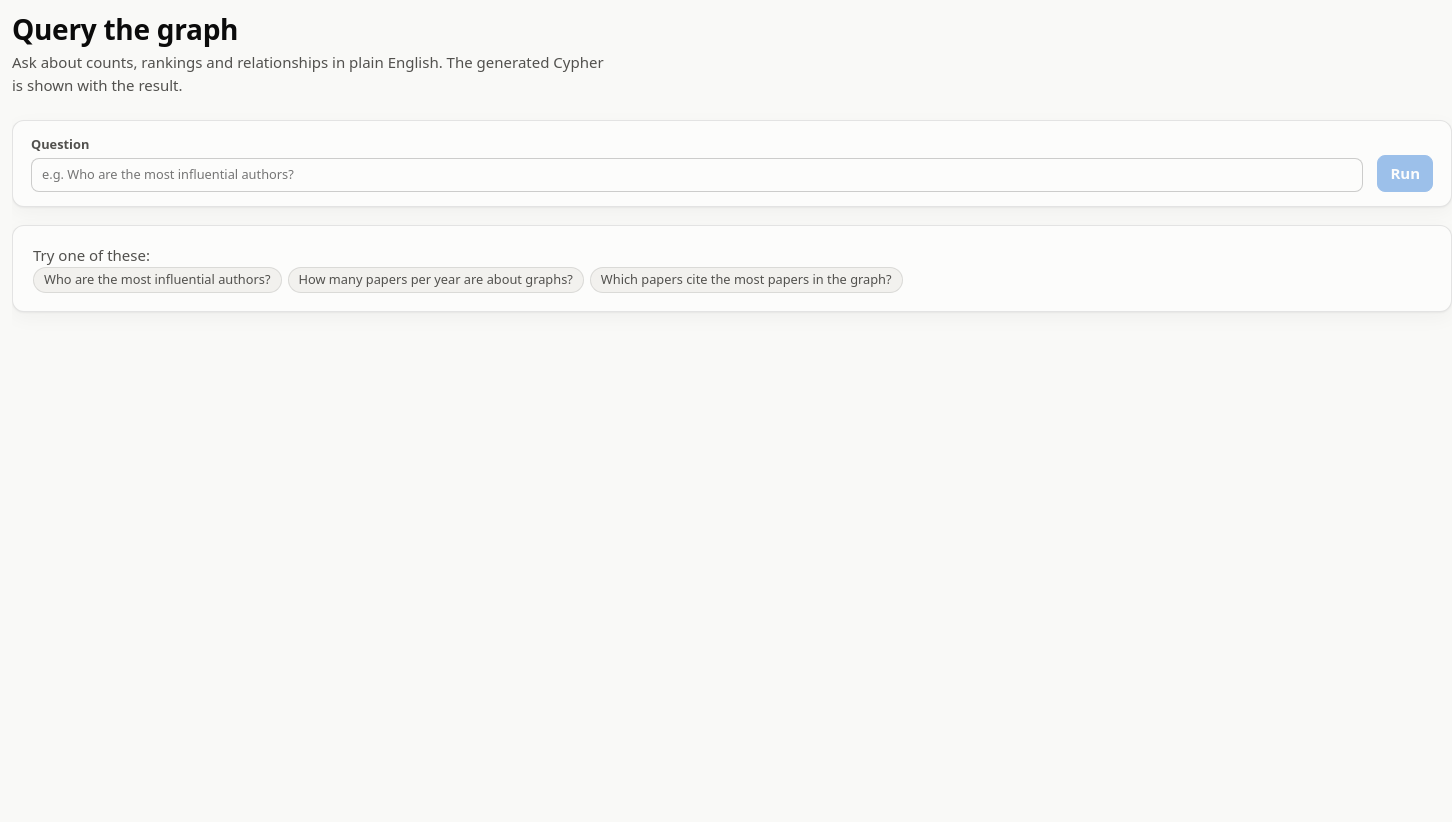
QueryPage › warns when results are truncated
This screenshot has width=1452, height=822.
Type "top authors" into the field labelled "Question" at (697, 175), box [31, 158, 1363, 192]
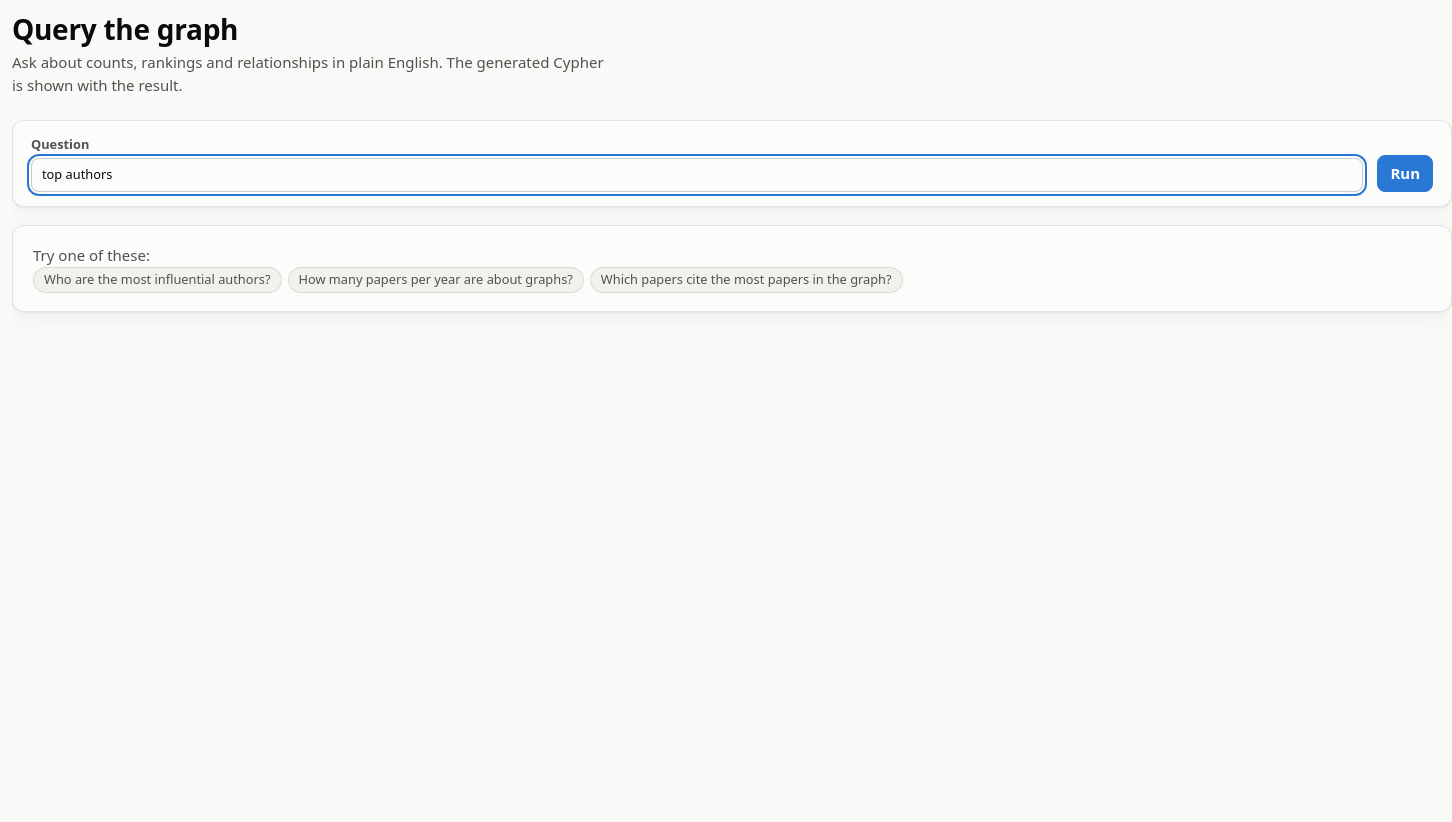
Click the button "Run" at (1405, 174), box [1377, 155, 1433, 192]
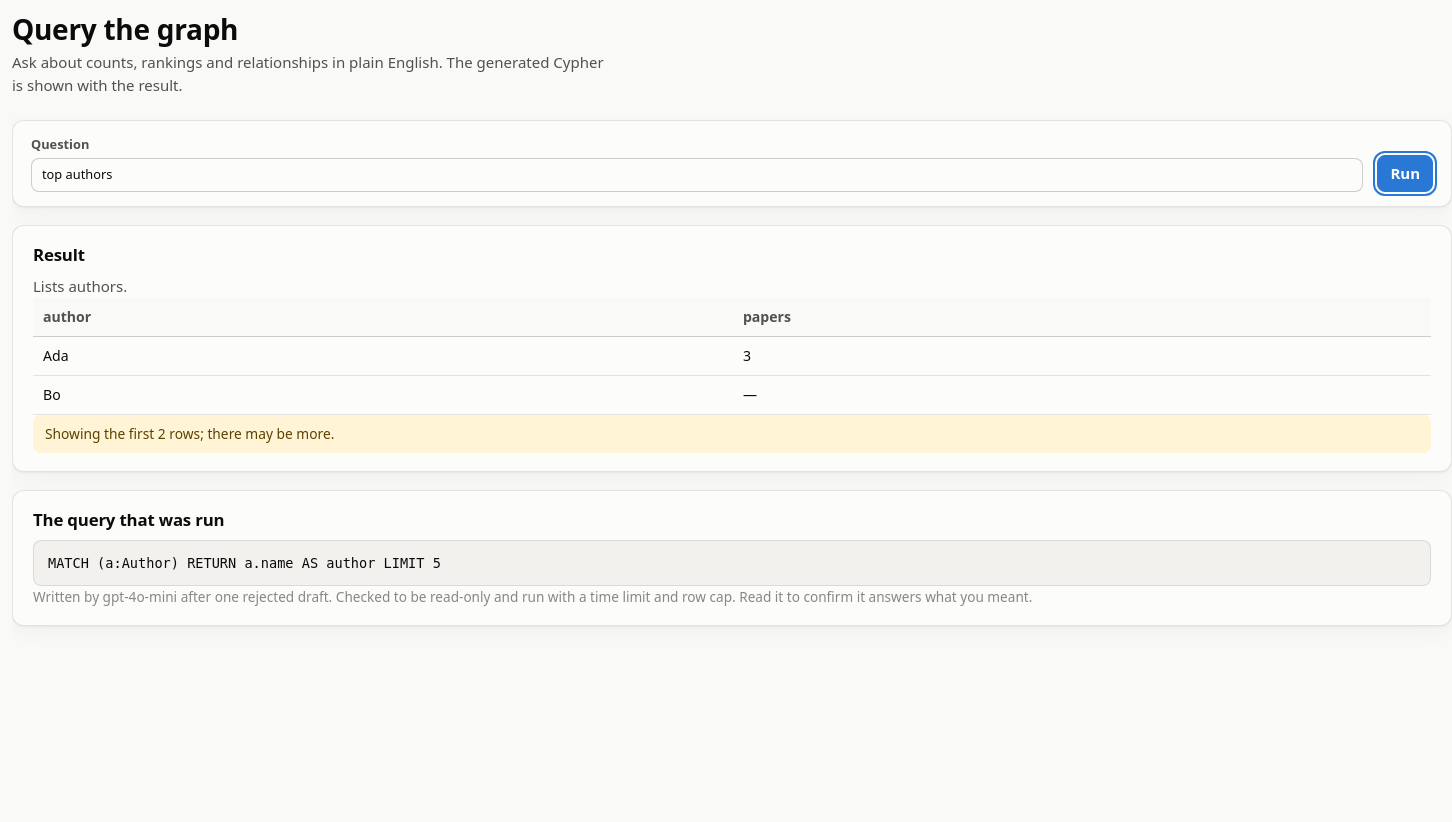
Check: the text "Showing the first 2 rows; there may be more." is shown, box [166, 424, 334, 443]
